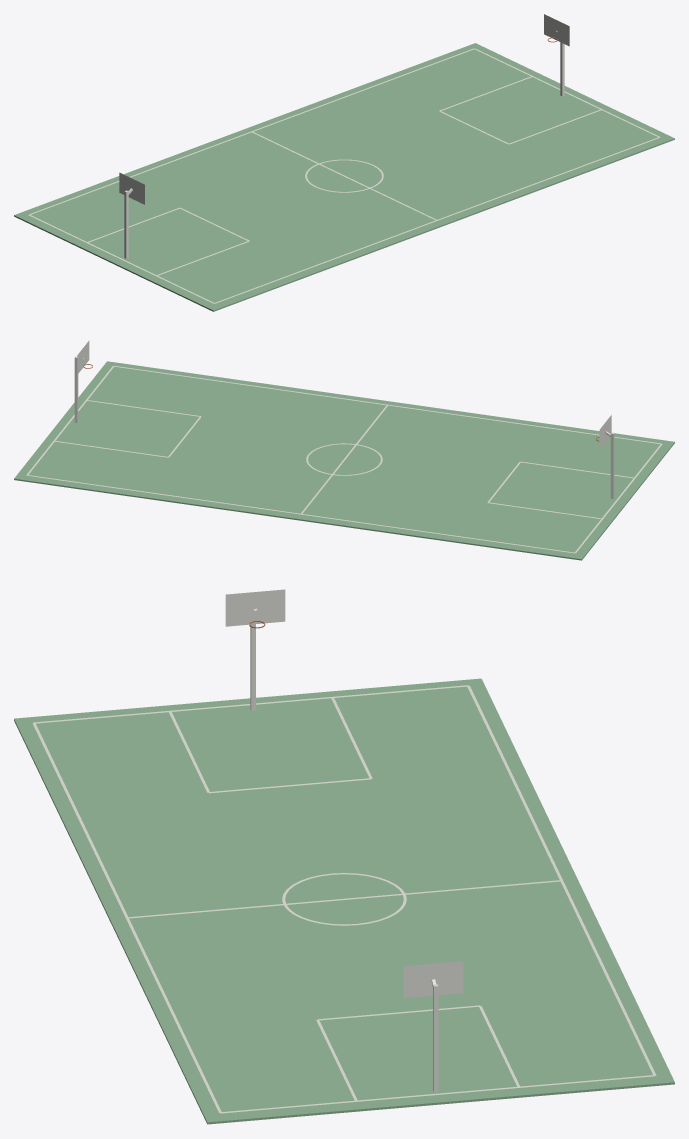
3 renders of one model, top to bottom at view 1: azimuth 30°, elevation 25°; view 2: azimuth 150°, elevation 25°; view 3: azimuth 270°, elevation 25°, orthographic. The views are drawn at different scales.
Visible parts, largest first — view 1: stadium-north-basketball; view 2: stadium-north-basketball; view 3: stadium-north-basketball.
Boxes of the visible parts, box(x1,y1,x2,y2) form: stadium-north-basketball: box(14, 14, 674, 311); stadium-north-basketball: box(14, 340, 674, 560); stadium-north-basketball: box(14, 589, 674, 1124).
Size of the model in its own units: 31.05 by 4.07 by 19.54.
